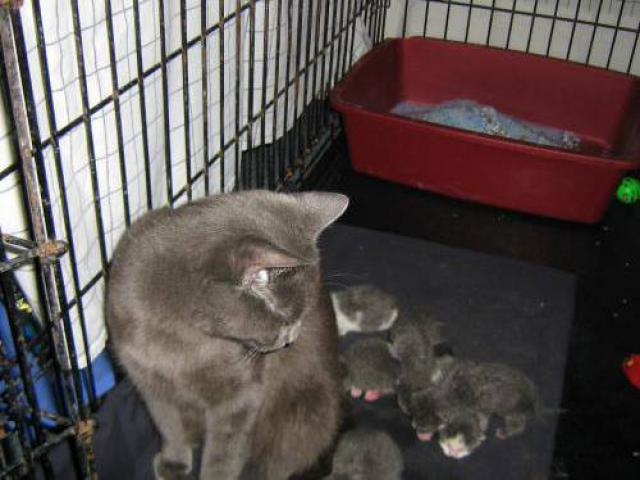cat: (97, 195, 530, 480)
